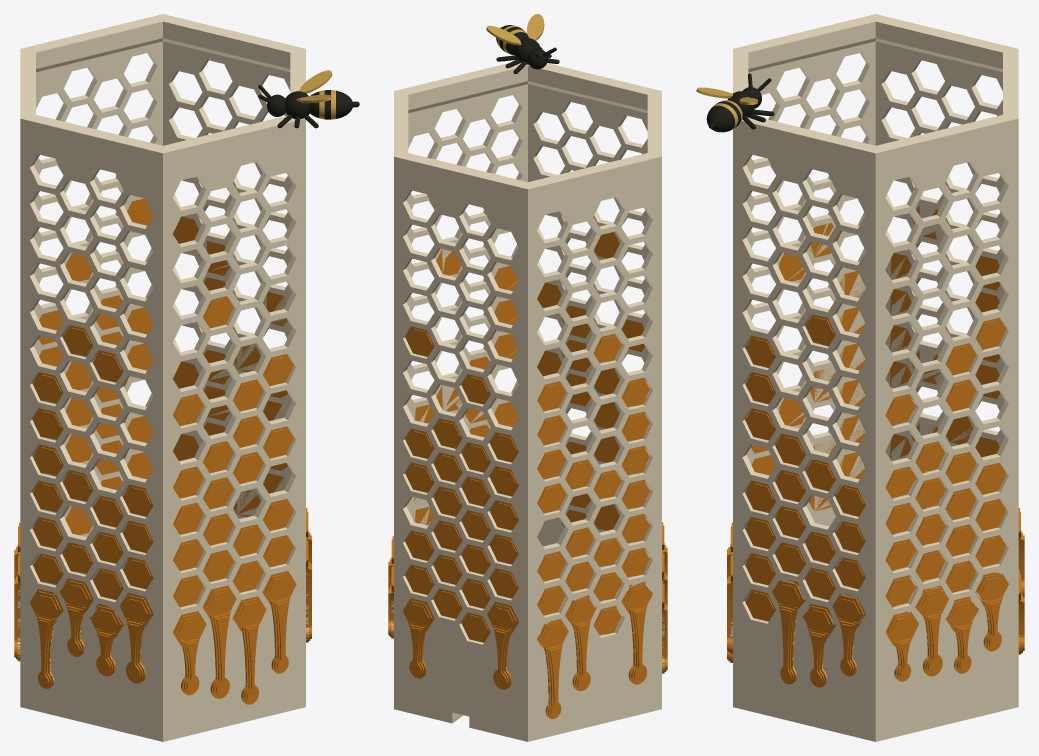
Rendered from H96-web.glb.
The picture shows the model from 3 angles, left to right: view 1: azimuth 30°, elevation 25°; view 2: azimuth 150°, elevation 25°; view 3: azimuth 270°, elevation 25°; orthographic projection. The views are drawn at different scales.
Parts seen in each view (by area): view 1: H96-body-cream, H96-body-amber, H96-bee-black; view 2: H96-body-cream, H96-body-amber, H96-bee-black; view 3: H96-body-cream, H96-body-amber, H96-bee-black.
Part boxes in pixels (left/top/right/bottom): H96-body-cream: left=17, top=14, right=308, bottom=741; H96-body-amber: left=14, top=198, right=311, bottom=704; H96-bee-black: left=258, top=85, right=359, bottom=128; H96-body-cream: left=391, top=63, right=664, bottom=741; H96-body-amber: left=388, top=232, right=667, bottom=718; H96-bee-black: left=496, top=25, right=559, bottom=73; H96-body-cream: left=730, top=14, right=1021, bottom=741; H96-body-amber: left=727, top=205, right=1024, bottom=687; H96-bee-black: left=706, top=73, right=774, bottom=132.
Size of the model in its own units: 0.127 by 0.2639 by 0.1263.
